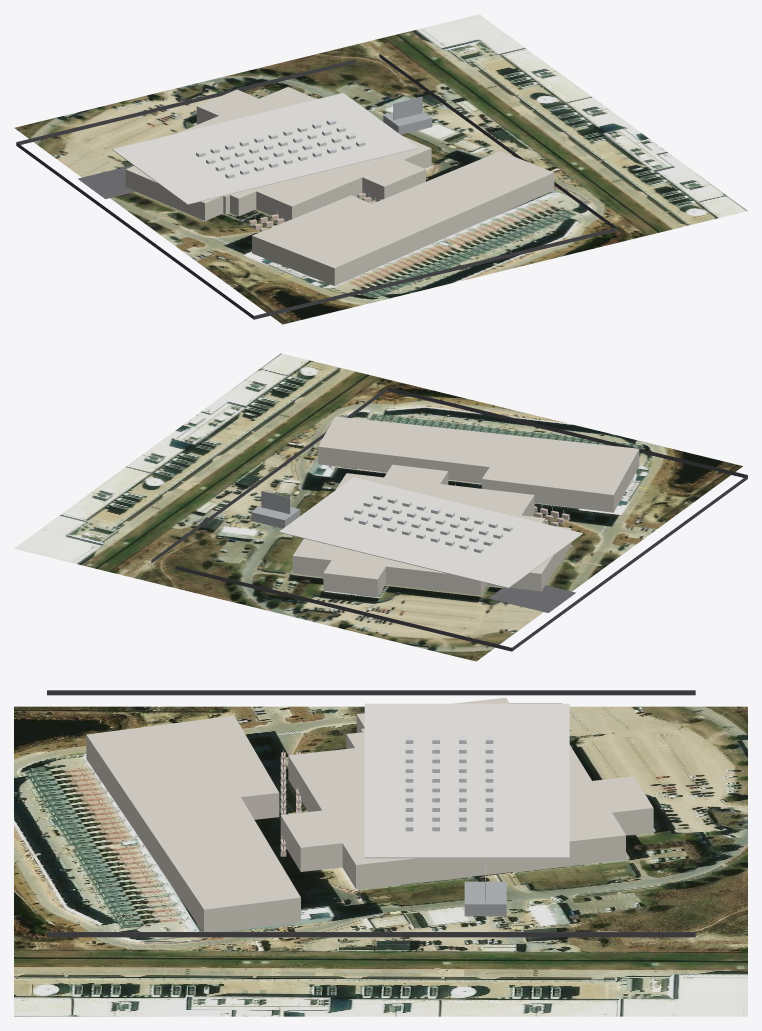
Rendered from qts-fort-worth-ftw1.glb.
3 views of the same model, one above another, from view 1: azimuth 30°, elevation 25°; view 2: azimuth 150°, elevation 25°; view 3: azimuth 270°, elevation 25° (orthographic). The views are drawn at different scales.
Visible parts, largest first — view 1: EsriWorldImagery_Ground, FTW1_DC2_IndustrialOSM, FTW1_DC1_TPORoof, FTW1_DC1_OSM, Fence_S, Fence_N, Fence_W, StaffParking, Fence_E, FTW1_OnSiteSubstation, FTW1_SubstationGantry; view 2: EsriWorldImagery_Ground, FTW1_DC2_IndustrialOSM, FTW1_DC1_TPORoof, FTW1_DC1_OSM, Fence_S, Fence_N, StaffParking, Fence_W, Fence_E, FTW1_OnSiteSubstation, FTW1_SubstationGantry; view 3: EsriWorldImagery_Ground, FTW1_DC1_TPORoof, FTW1_DC2_IndustrialOSM, FTW1_DC1_OSM, Fence_W, Fence_E, FTW1_OnSiteSubstation.
Part boxes in pixels (x1,y1,x2,y2): EsriWorldImagery_Ground: (14, 14, 747, 324); FTW1_DC2_IndustrialOSM: (252, 151, 554, 285); FTW1_DC1_TPORoof: (112, 93, 418, 204); FTW1_DC1_OSM: (125, 87, 431, 221); Fence_S: (254, 227, 616, 319); Fence_N: (17, 59, 355, 144); Fence_W: (16, 142, 253, 319); StaffParking: (78, 165, 135, 198); Fence_E: (379, 54, 616, 228); FTW1_OnSiteSubstation: (383, 111, 432, 134); FTW1_SubstationGantry: (393, 96, 422, 119); EsriWorldImagery_Ground: (14, 353, 742, 661); FTW1_DC2_IndustrialOSM: (318, 416, 639, 512); FTW1_DC1_TPORoof: (279, 477, 582, 588); FTW1_DC1_OSM: (292, 464, 571, 596); Fence_S: (387, 387, 747, 477); Fence_N: (175, 566, 511, 651); StaffParking: (488, 585, 575, 612); Fence_W: (512, 475, 747, 651); Fence_E: (151, 387, 387, 563); FTW1_OnSiteSubstation: (251, 505, 300, 528); FTW1_SubstationGantry: (261, 490, 290, 514); EsriWorldImagery_Ground: (14, 706, 747, 1016); FTW1_DC1_TPORoof: (364, 703, 569, 858); FTW1_DC2_IndustrialOSM: (86, 715, 300, 931); FTW1_DC1_OSM: (280, 697, 653, 889); Fence_W: (47, 690, 695, 695); Fence_E: (47, 932, 695, 937); FTW1_OnSiteSubstation: (464, 881, 506, 916).
Size of the model in its own units: 398 by 20.05 by 385.
11 materials, 1 textured.
